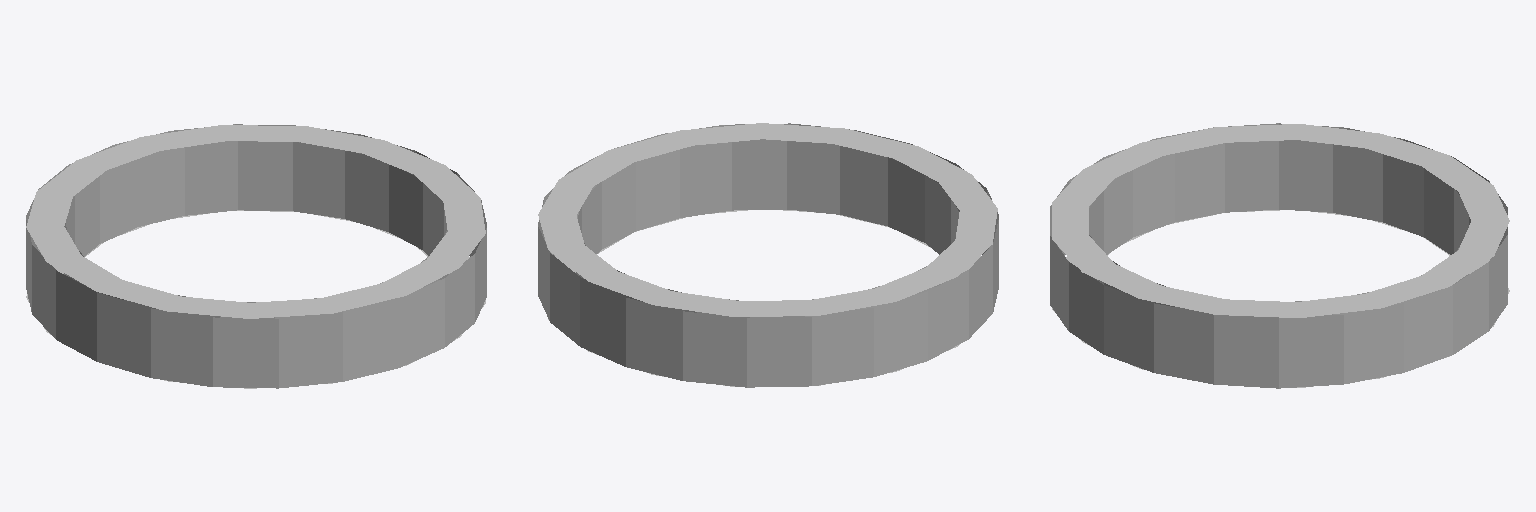
Rendered from glow.obj.
3 views of the same model, side by side, from view 1: azimuth 30°, elevation 25°; view 2: azimuth 150°, elevation 25°; view 3: azimuth 270°, elevation 25° (orthographic).
Visible parts, largest first — view 1: nurbsToPoly2, nurbsToPoly1, loftedSurface1; view 2: nurbsToPoly2, nurbsToPoly1, loftedSurface1; view 3: nurbsToPoly2, nurbsToPoly1, loftedSurface1.
Part boxes in pixels (x1,y1,x2,y2): nurbsToPoly2: (26, 124, 486, 388); nurbsToPoly1: (64, 141, 448, 318); loftedSurface1: (26, 125, 485, 318); nurbsToPoly2: (538, 123, 998, 387); nurbsToPoly1: (576, 140, 958, 317); loftedSurface1: (538, 123, 997, 316); nurbsToPoly2: (1050, 123, 1507, 388); nurbsToPoly1: (1089, 140, 1468, 318); loftedSurface1: (1052, 124, 1509, 317).
Bounding box in the file's own units: 2.4 × 0.4 × 2.39.